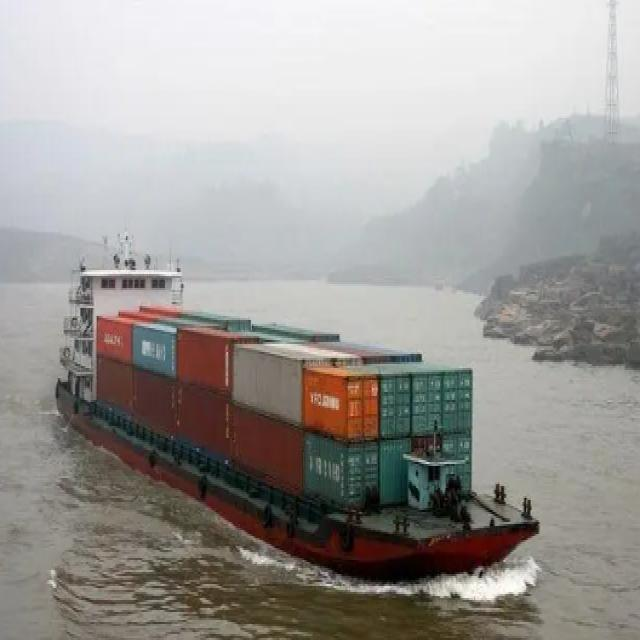cargoship: (49, 225, 541, 584)
